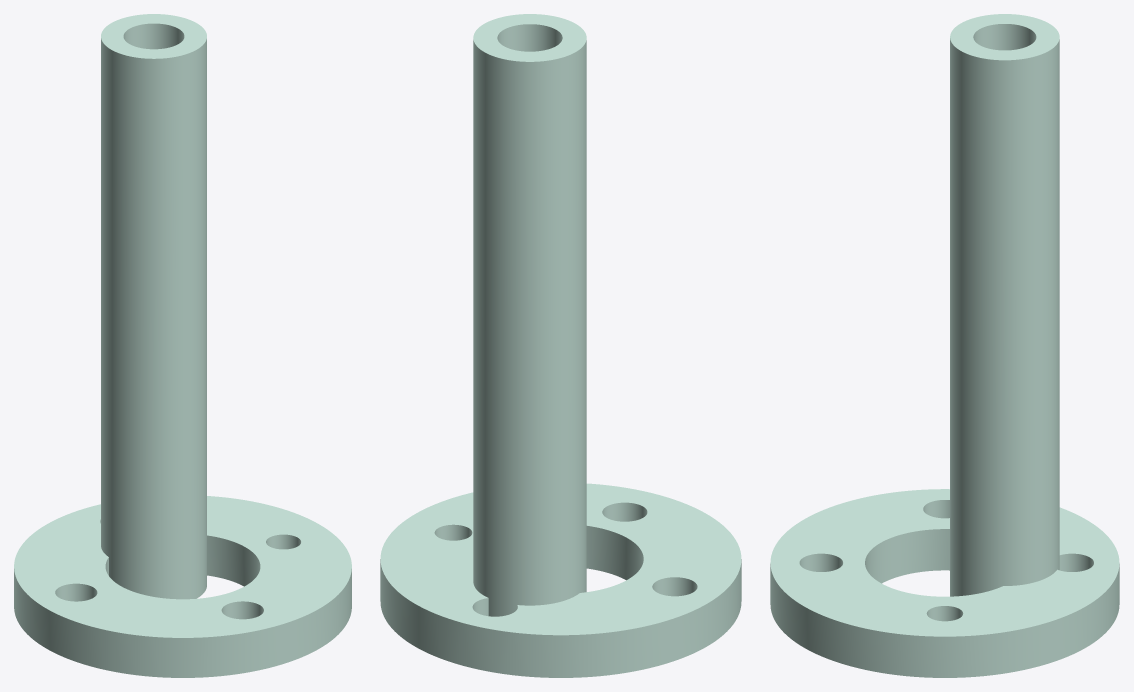
3 views of the same model, side by side, from view 1: azimuth 30°, elevation 25°; view 2: azimuth 150°, elevation 25°; view 3: azimuth 270°, elevation 25° (orthographic). The views are drawn at different scales.
Visible parts, largest first — view 1: Renderer Node; view 2: Renderer Node; view 3: Renderer Node.
Part boxes in pixels (left/top/right/bottom): Renderer Node: left=14, top=14, right=351, bottom=677; Renderer Node: left=380, top=14, right=741, bottom=677; Renderer Node: left=770, top=14, right=1119, bottom=677.
Bounding box in the file's own units: 0.4183 × 0.75 × 0.4184.
